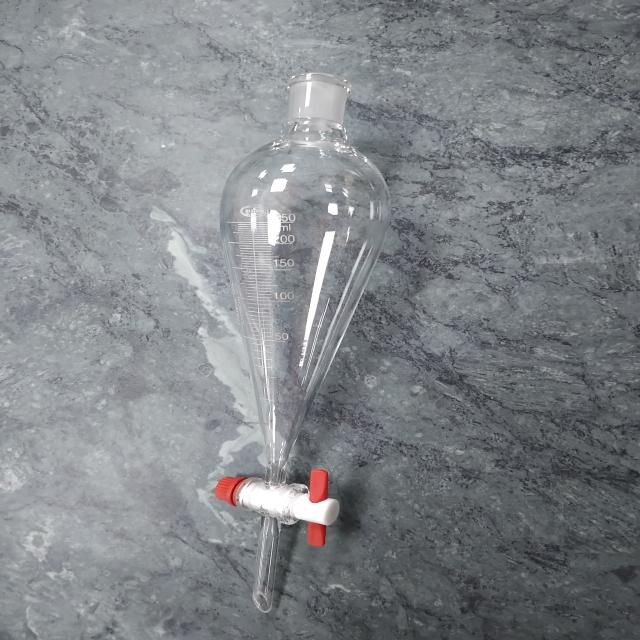Separating_Funnel: (163, 44, 433, 635)
